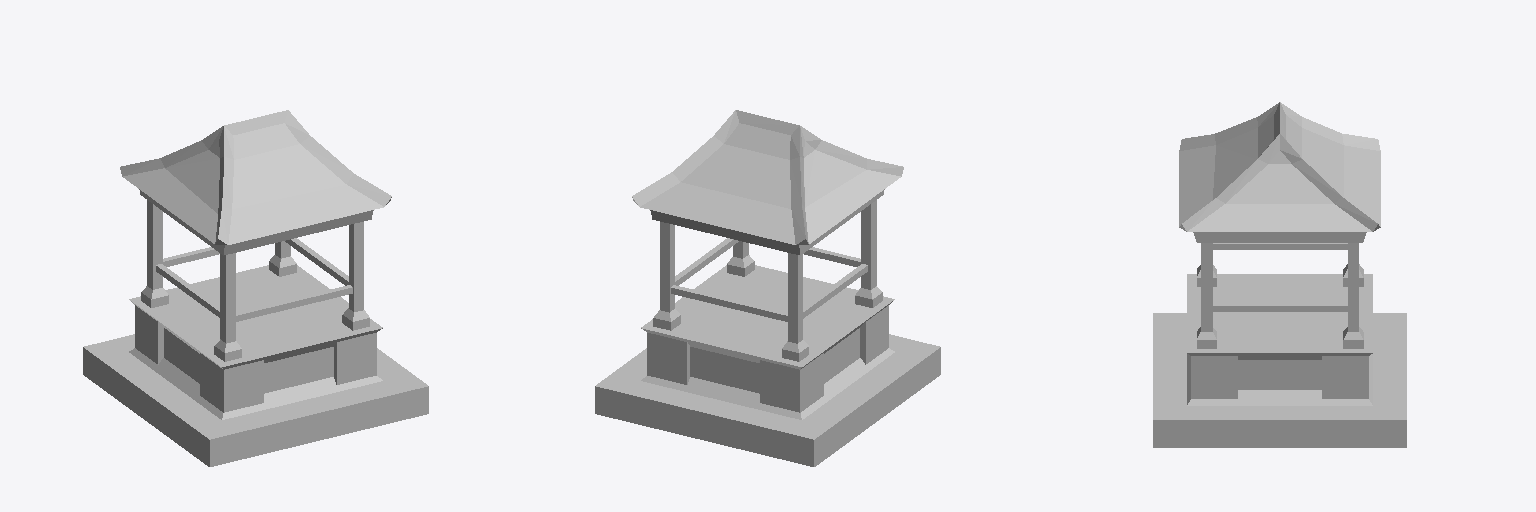
Rendered from TD_StaticBuildingS.obj.
The picture shows the model from 3 angles: view 1: azimuth 30°, elevation 25°; view 2: azimuth 150°, elevation 25°; view 3: azimuth 270°, elevation 25°; orthographic projection.
Visible parts, largest first — view 1: polySurface18; view 2: polySurface18; view 3: polySurface18.
Part boxes in pixels (x1,y1,x2,y2): polySurface18: (83, 110, 428, 466); polySurface18: (595, 110, 940, 466); polySurface18: (1153, 102, 1406, 447).
Size of the model in its own units: 2.72 by 3.27 by 2.72.